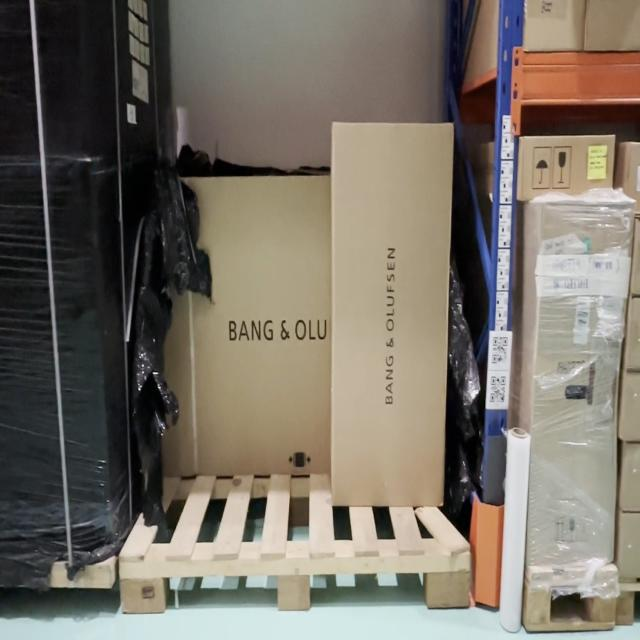box: (158, 175, 330, 475), (333, 123, 443, 503), (527, 203, 634, 565), (520, 134, 614, 201), (619, 515, 640, 582), (620, 374, 640, 441), (621, 446, 640, 513), (627, 297, 640, 369), (631, 217, 640, 295)
